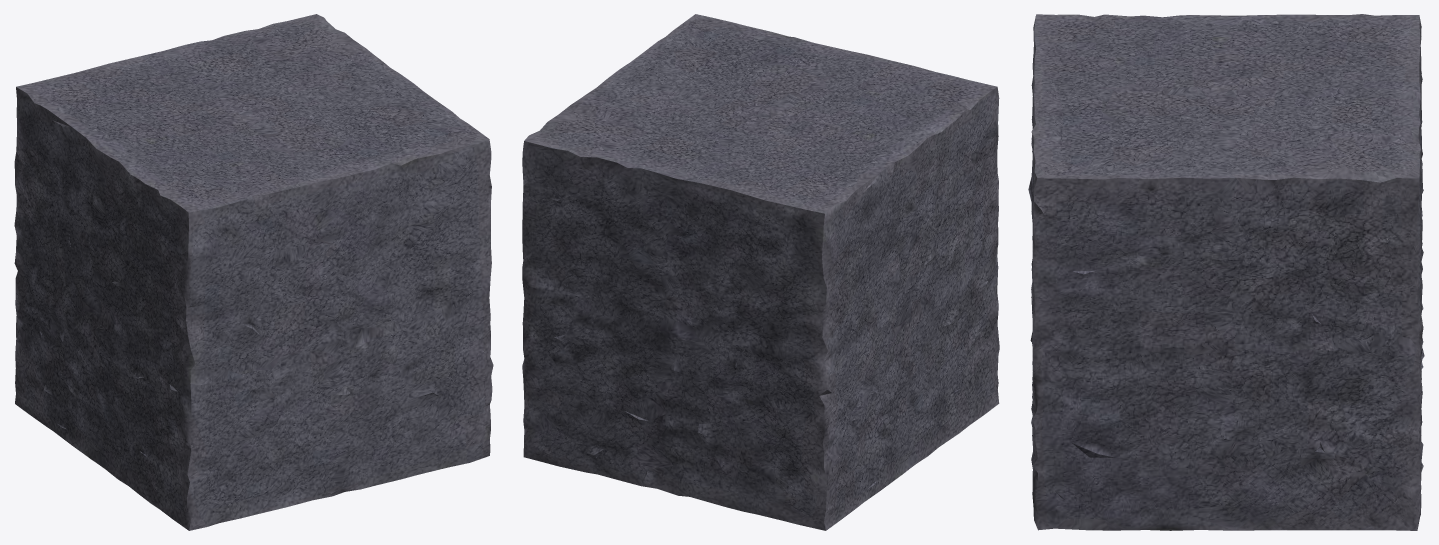
The model's file is block_gravel_idle.glb.
The picture shows the model from 3 angles, left to right: view 1: azimuth 30°, elevation 25°; view 2: azimuth 150°, elevation 25°; view 3: azimuth 270°, elevation 25°; orthographic projection. The views are drawn at different scales.
Parts seen in each view (by area): view 1: tripo_node_8ed0c5ed-23d8-476c-8958-eafb1b8c0837; view 2: tripo_node_8ed0c5ed-23d8-476c-8958-eafb1b8c0837; view 3: tripo_node_8ed0c5ed-23d8-476c-8958-eafb1b8c0837.
Boxes of the visible parts, bbox=[...] form: tripo_node_8ed0c5ed-23d8-476c-8958-eafb1b8c0837: bbox=[14, 14, 493, 530]; tripo_node_8ed0c5ed-23d8-476c-8958-eafb1b8c0837: bbox=[522, 14, 999, 530]; tripo_node_8ed0c5ed-23d8-476c-8958-eafb1b8c0837: bbox=[1028, 14, 1424, 530].
Size of the model in its own units: 0.9996 by 0.9956 by 0.9966.
1 material, 1 textured.
